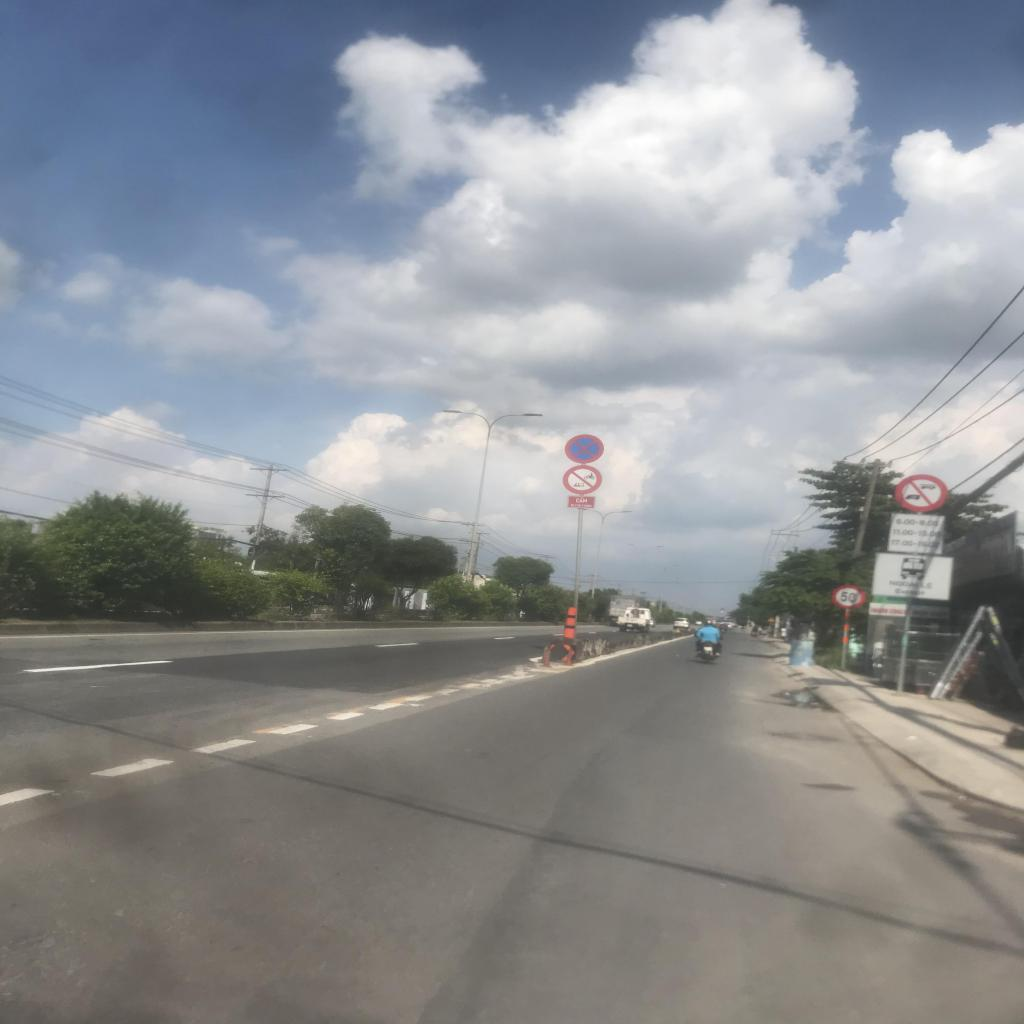cam_dung_xe_va_do_xe: (565, 434, 605, 463)
cam_o_to_tai_va_xe_khach: (894, 474, 946, 512)
cam_xe_2_banh_va_xe_3_banh_co_dong_co: (562, 465, 602, 495)
khac: (872, 553, 954, 600), (888, 513, 945, 555)
toc_do_toi_da_50: (832, 585, 866, 609)
